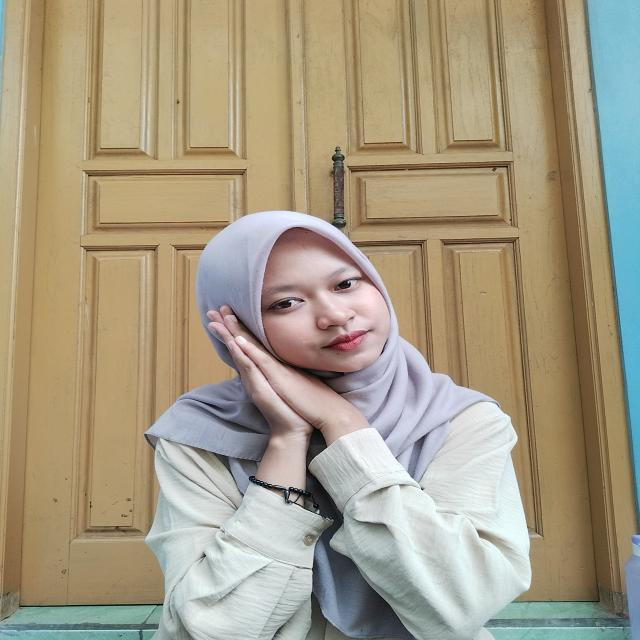tidur: (199, 302, 373, 492)
